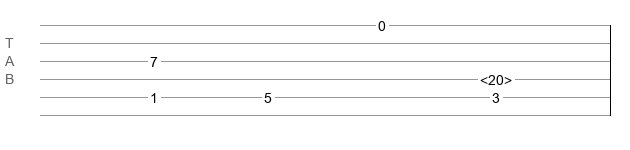0: (378, 18, 386, 28)
1: (150, 90, 158, 100)
3: (492, 90, 500, 100)
5: (264, 90, 272, 100)
7: (150, 54, 158, 64)
harmonic: (480, 72, 512, 82)
